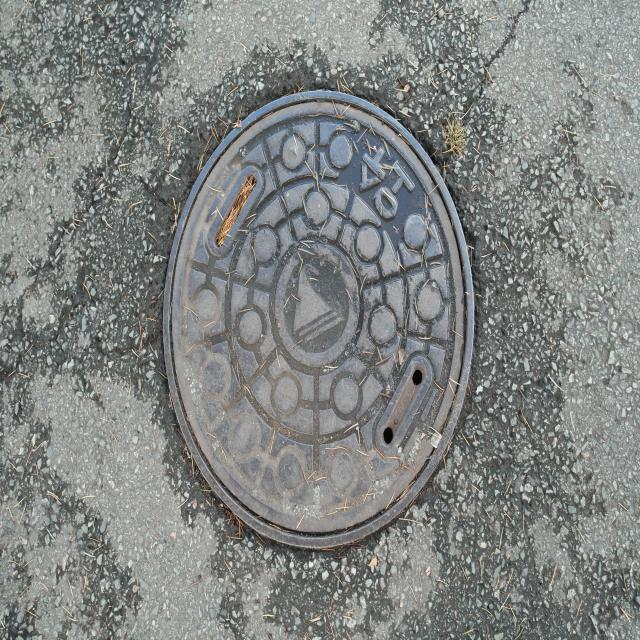manhole: (164, 91, 474, 548)
